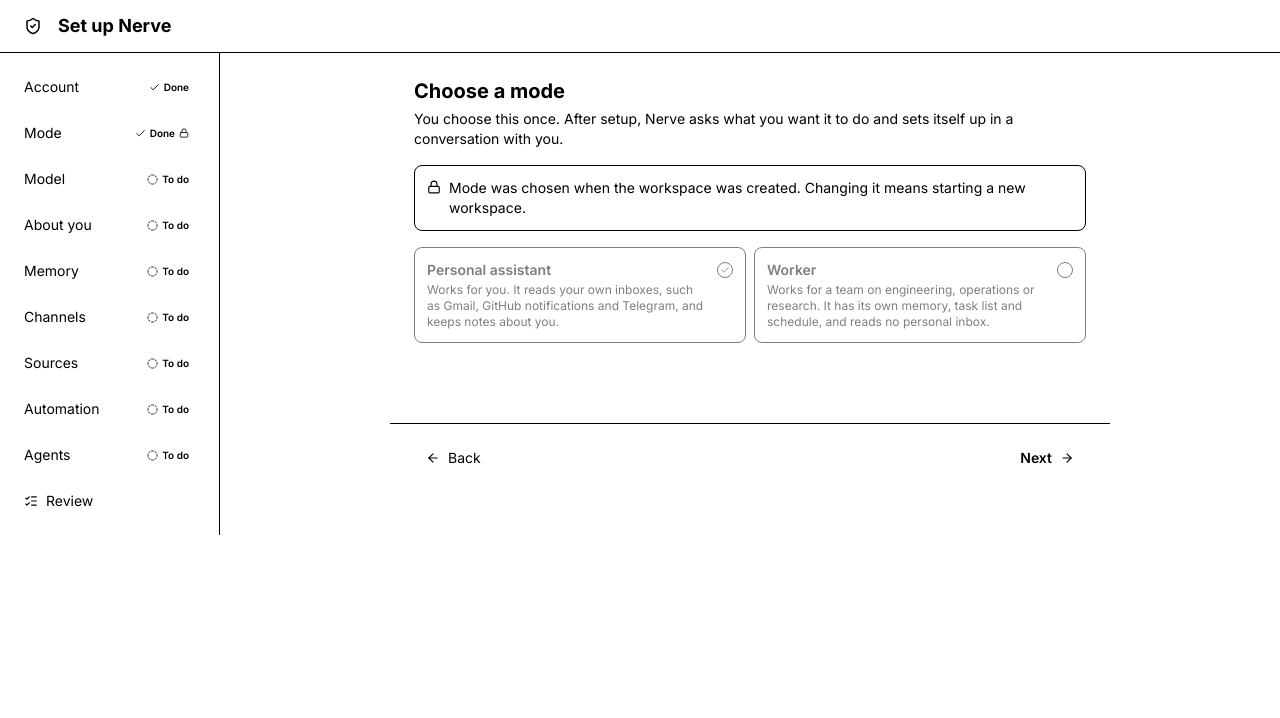
editing a step from the Overview or the Review › Back from Mode lands on the Overview, not on the read-only Account card
Click the button "Back" at coordinates (453, 458), box [414, 436, 493, 480]
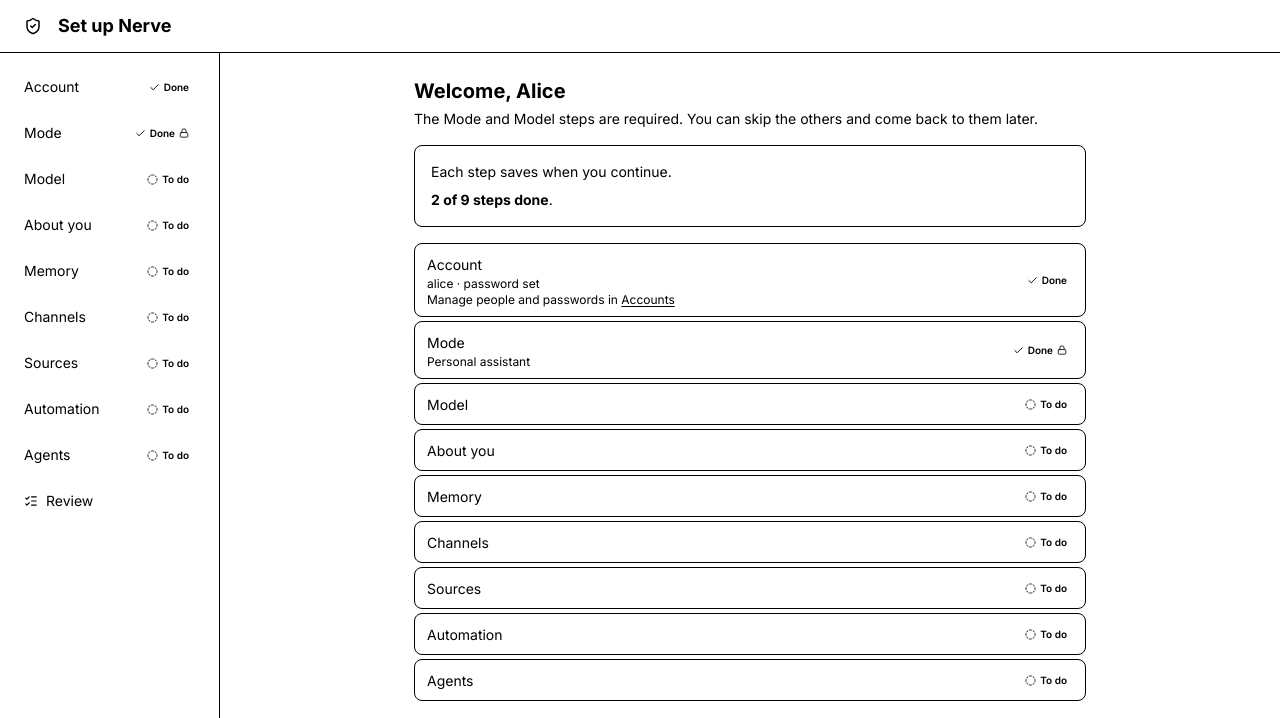
Check: the heading "Welcome, Alice" is shown, box [414, 79, 566, 103]
